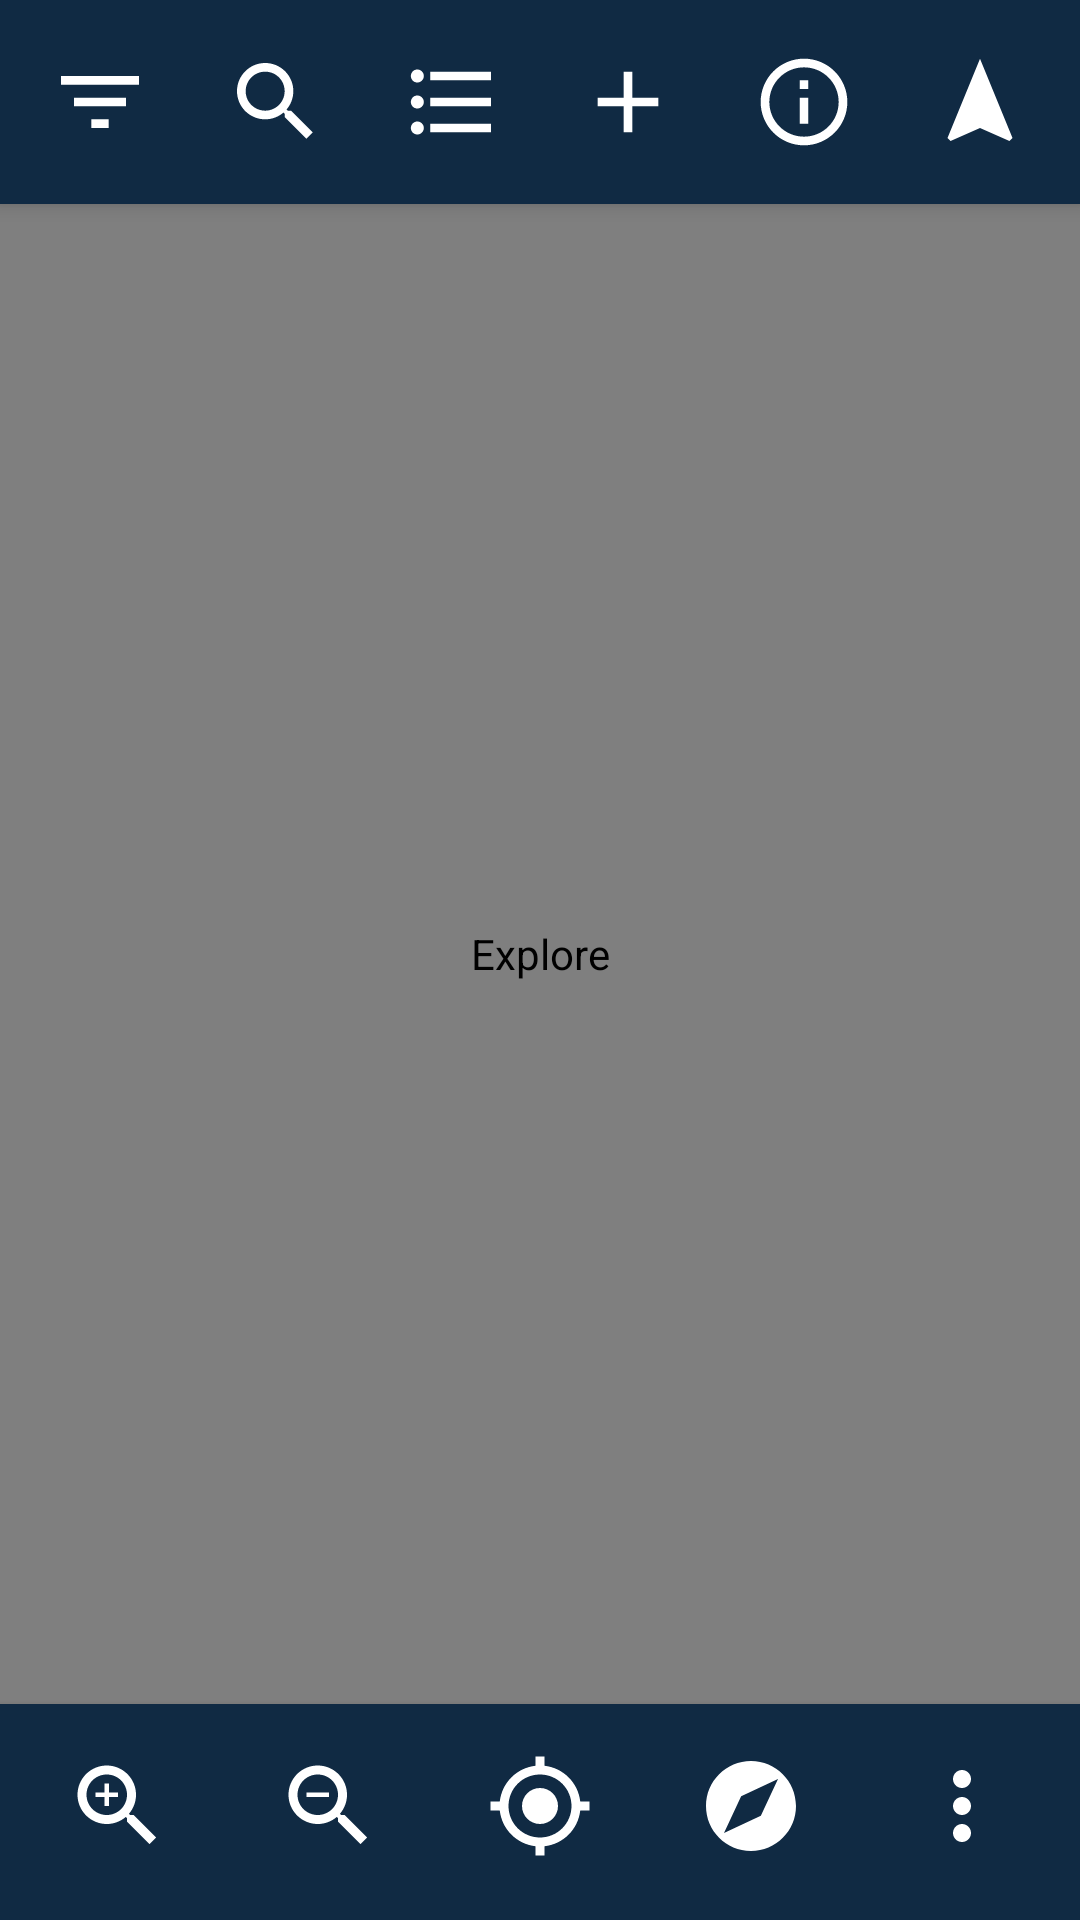

Icons on this 1080px x 1920px Android screen, each with its box as (x1, y1, x2, y2):
Add new point: (597, 71, 659, 133)
Filters: (61, 76, 139, 128)
Info: (760, 58, 848, 146)
List nearby nodes: (410, 69, 491, 135)
More: (953, 1770, 971, 1842)
Recenter to your location: (490, 1756, 590, 1856)
Search: (237, 63, 313, 139)
Switch to North Lock: (706, 1761, 796, 1851)
Zoom in: (77, 1765, 156, 1844)
Zoom out: (288, 1765, 367, 1844)
